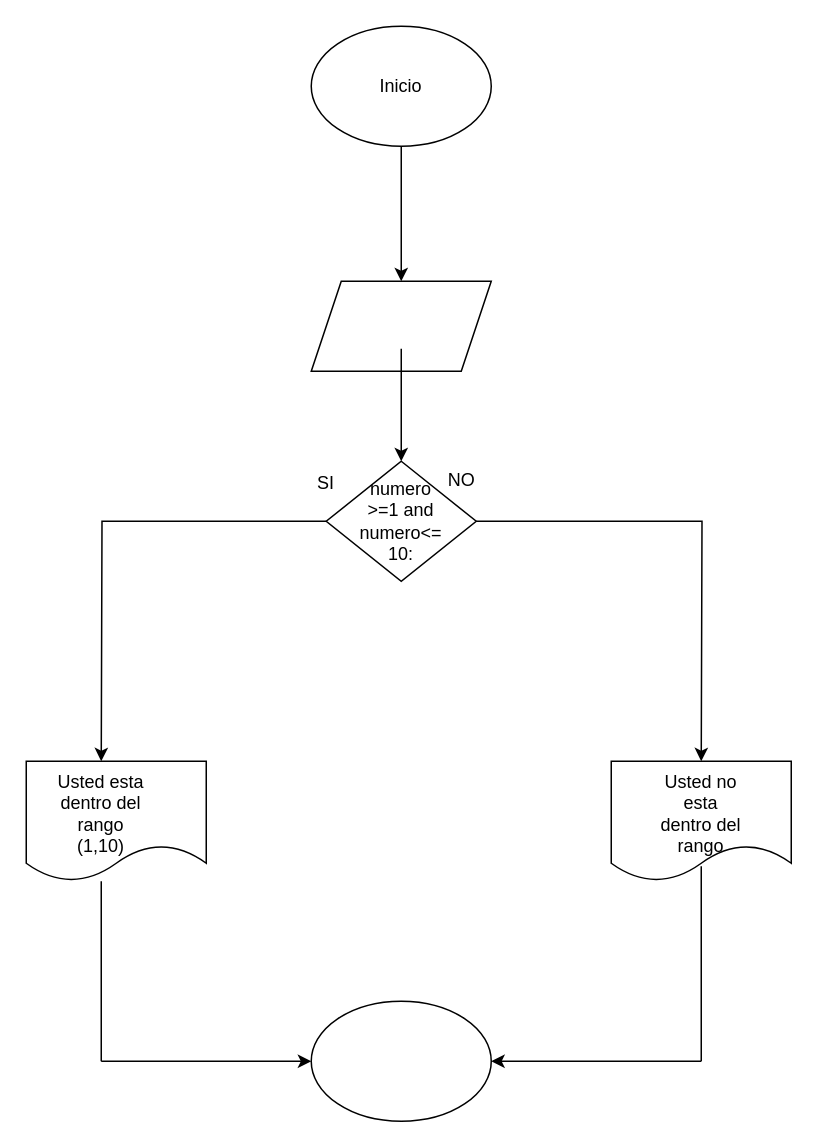
Image size: 818x1148. Some labels were removed from this diagram. Each missing label, with the centre of its shape:
"Dame un numero" goes at (x=400, y=325).
"FIN" goes at (x=400, y=1060).
